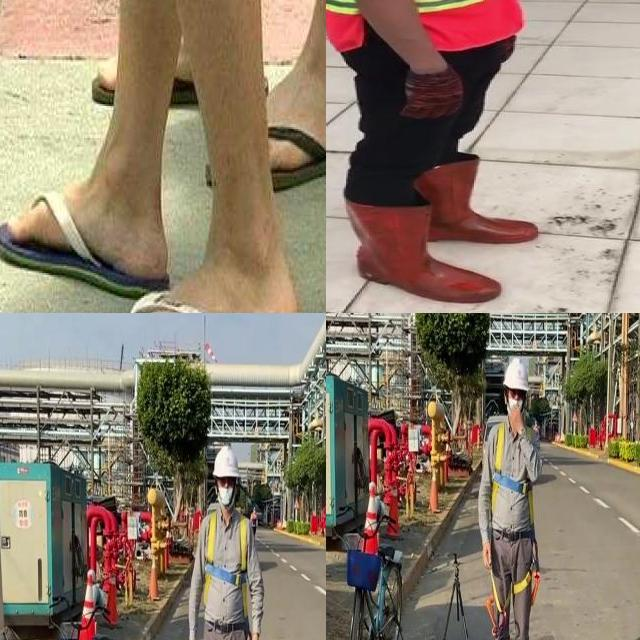Harness: (204, 511, 249, 618), (492, 422, 533, 532)
Sandals: (94, 243, 298, 313)
boots: (346, 197, 502, 305), (428, 157, 538, 244)
person: (326, 0, 548, 309)
